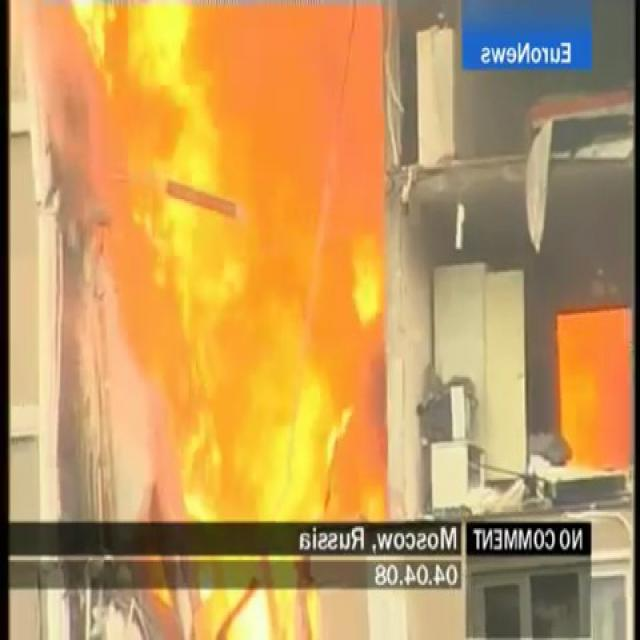fire: (27, 0, 385, 523), (560, 304, 633, 475)
